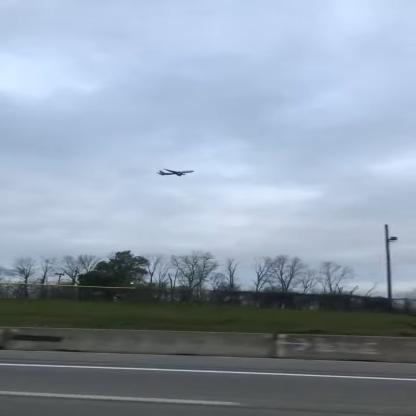plane: (148, 164, 202, 182)
